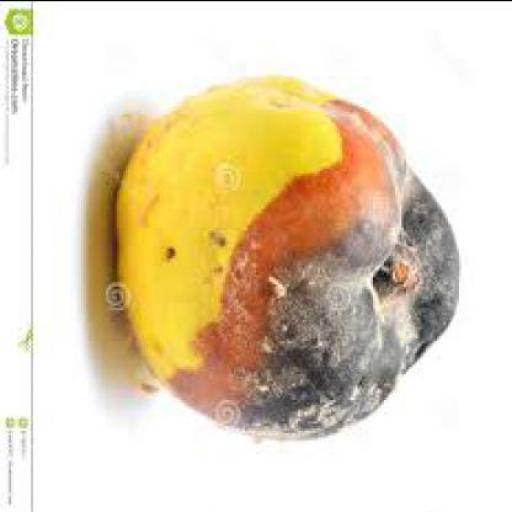biodegradable: (114, 72, 464, 434)
